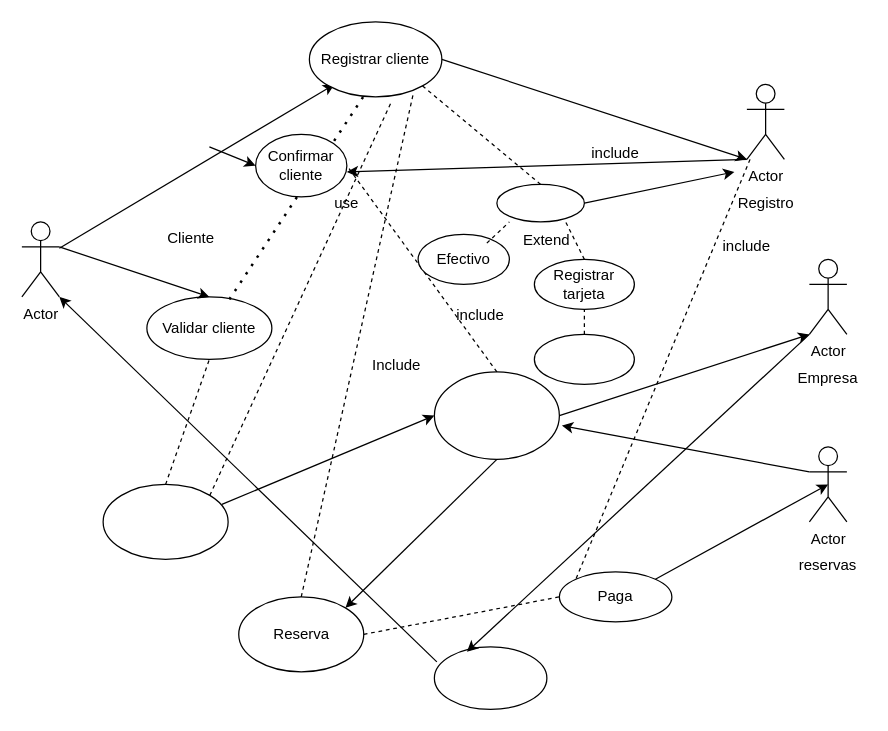
Some shapes in this 888 by 731 pixel diagram are drawn without their labels. The centre of each missing label's shape, as x and y in pixels:
confirmar: the point at 496,415
entregar Productos: the point at 490,677
Mastercard: the point at 583,358
ofrecer servicios: the point at 165,521
pago: the point at 540,202
